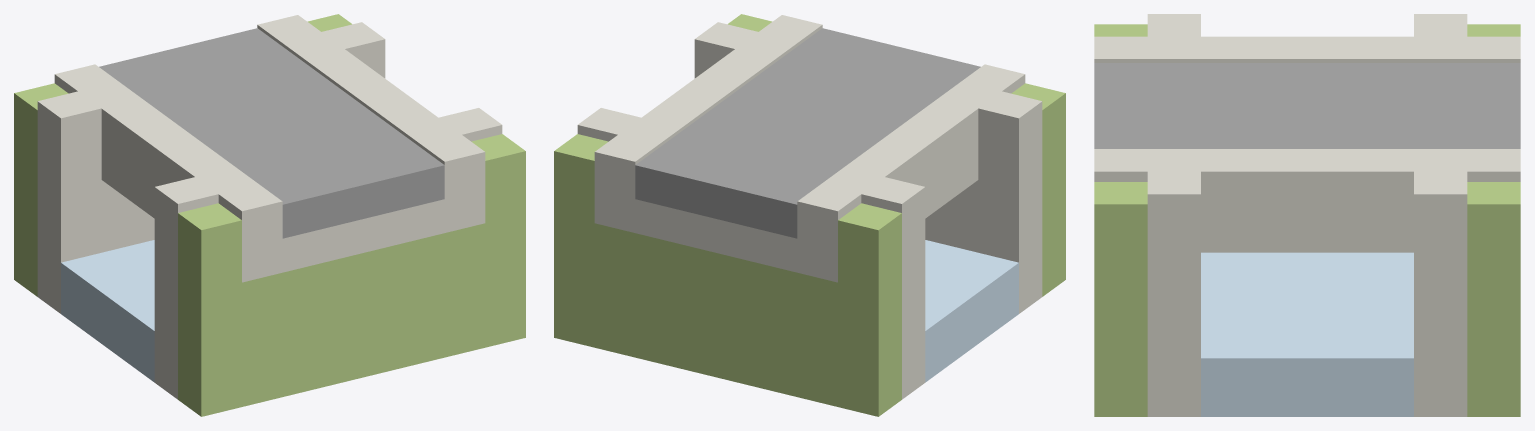
Rendered from road_tile_207.glb.
The picture shows the model from 3 angles, left to right: view 1: azimuth 30°, elevation 25°; view 2: azimuth 150°, elevation 25°; view 3: azimuth 270°, elevation 25°; orthographic projection. The views are drawn at different scales.
Visible parts, largest first — view 1: roadTile_207; view 2: roadTile_207; view 3: roadTile_207.
Boxes of the visible parts, x1,y1,x2,y2 form: roadTile_207: (14, 14, 525, 416); roadTile_207: (554, 14, 1065, 416); roadTile_207: (1094, 14, 1520, 416).
Size of the model in its own units: 3 by 1.73 by 3.
